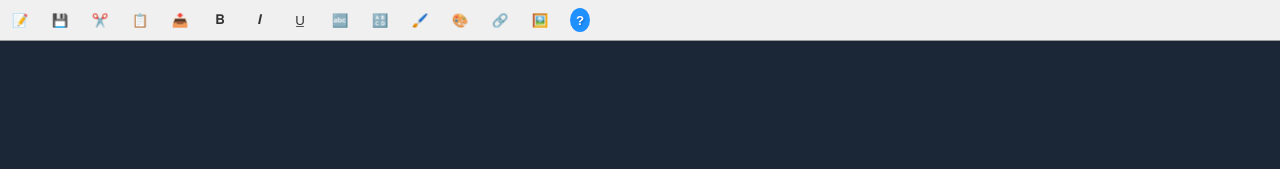
Test case: MenuBar › shows help menu items when Help icon is clicked
This screenshot has width=1280, height=169.
Click the button named "Help" at (580, 20), box [564,4,596,36]
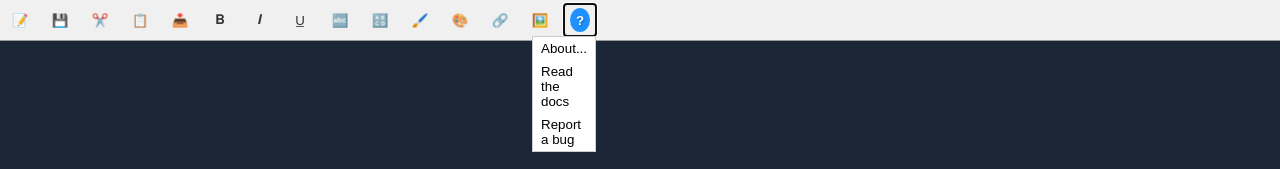
Expected: the menu item "About..." is shown, [533,37,595,60]
Expected: the menu item "Read the docs" is shown, [533,60,595,113]
Expected: the menu item "Report a bug" is shown, [533,113,595,151]
